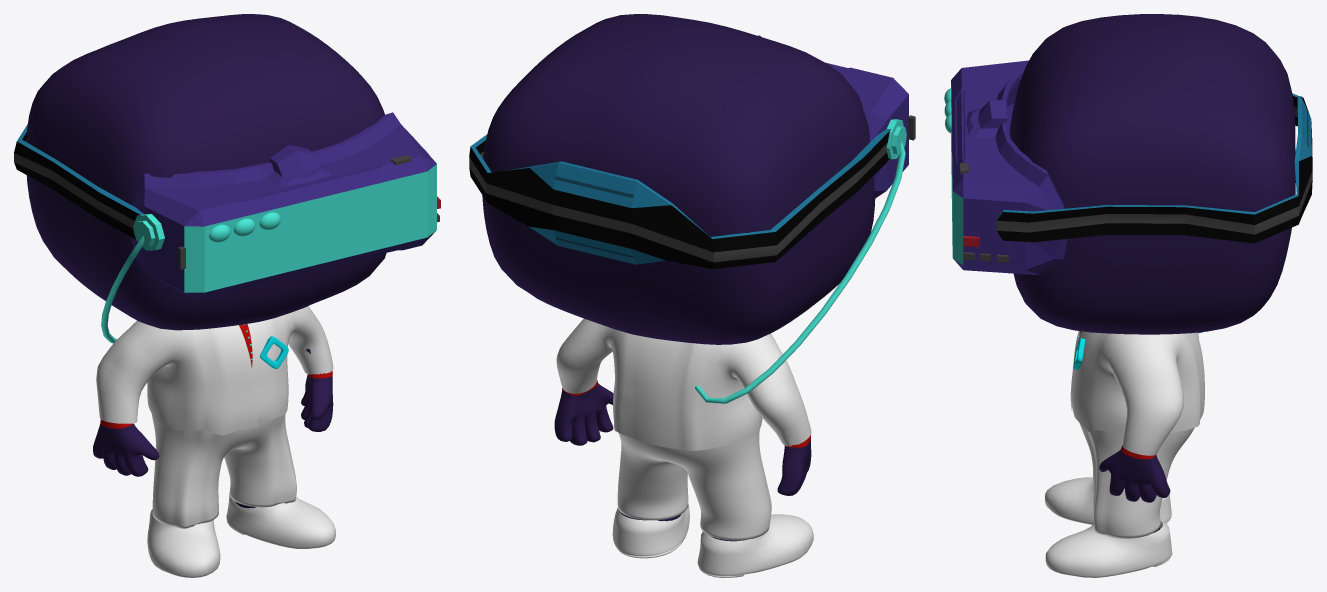
Rendered from MikePopAR.glb.
3 views of the same model, side by side, from view 1: azimuth 30°, elevation 25°; view 2: azimuth 150°, elevation 25°; view 3: azimuth 270°, elevation 25° (orthographic). The views are drawn at different scales.
Visible parts, largest first — view 1: Head, Body.005, Body.002, Body.001, Body, Body.008, Body.009; view 2: Head, Body.005, Body.002, Body.001, Body.009, Body, Body.008; view 3: Head, Body.005, Body.002, Body.001, Body.008, Body, Body.009.
Part boxes in pixels (<box>): Head: <box>26,14,386,330</box>; Body.005: <box>14,112,440,343</box>; Body.002: <box>96,306,333,435</box>; Body.001: <box>151,413,296,528</box>; Body: <box>93,348,333,508</box>; Body.008: <box>226,493,335,548</box>; Body.009: <box>147,509,220,577</box>; Head: <box>482,14,875,344</box>; Body.005: <box>469,35,915,403</box>; Body.002: <box>556,318,811,450</box>; Body.001: <box>617,430,771,540</box>; Body.009: <box>697,514,813,577</box>; Body: <box>554,383,811,541</box>; Body.008: <box>612,504,689,558</box>; Head: <box>1009,14,1295,334</box>; Body.005: <box>944,60,1312,333</box>; Body.002: <box>1070,331,1204,459</box>; Body.001: <box>1079,423,1194,538</box>; Body.008: <box>1045,520,1172,577</box>; Body: <box>1099,449,1170,532</box>; Body.009: <box>1045,477,1171,524</box>.
Size of the model in its own units: 0.6723 by 1.07 by 0.7181.
Materials: 11 (1 with a texture image).
